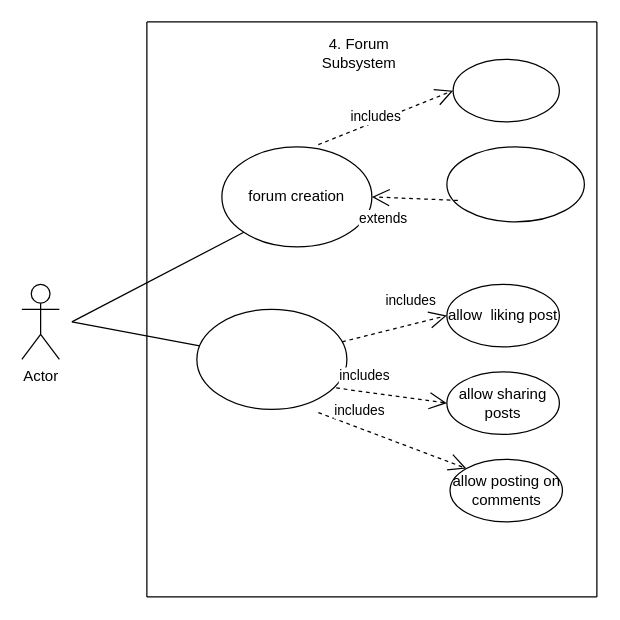
The diagram is 620 pixels wide and 620 high, and some of its shapes have lost their labels. Each missing label, with the box of its shape:
allow authorized users: (452, 58, 559, 122)
allow users to post in forums: (446, 146, 584, 222)
post interaction: (196, 308, 347, 409)
